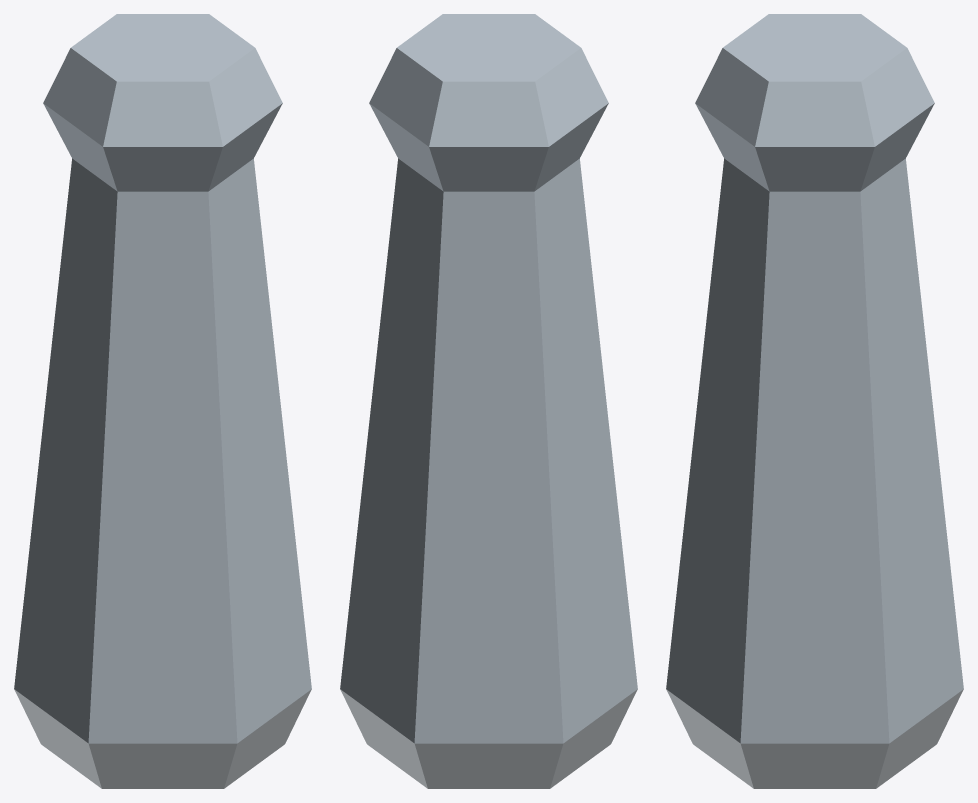
The model's file is mortarPestle.glb.
3 views of the same model, side by side, from view 1: azimuth 30°, elevation 25°; view 2: azimuth 150°, elevation 25°; view 3: azimuth 270°, elevation 25° (orthographic).
Visible parts, largest first — view 1: mortarPestle; view 2: mortarPestle; view 3: mortarPestle.
Boxes of the visible parts, x1,y1,x2,y2 form: mortarPestle: (14, 14, 311, 788); mortarPestle: (340, 14, 637, 788); mortarPestle: (666, 14, 963, 788).
Size of the model in its own units: 0.1142 by 0.3402 by 0.1318.
